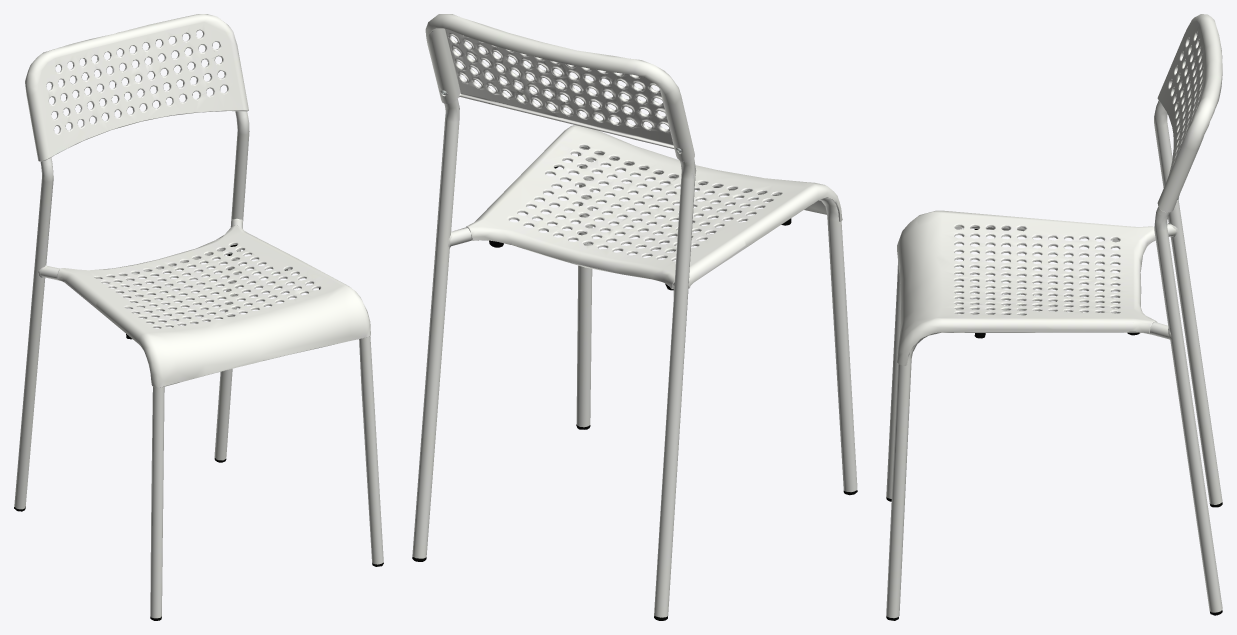
The model's file is sandsberg-silla-blanco.glb.
3 views of the same model, side by side, from view 1: azimuth 30°, elevation 25°; view 2: azimuth 150°, elevation 25°; view 3: azimuth 270°, elevation 25° (orthographic). The views are drawn at different scales.
Parts seen in each view (by area): view 1: ASY_ART_10605424_S01_NV01; view 2: ASY_ART_10605424_S01_NV01; view 3: ASY_ART_10605424_S01_NV01.
Boxes of the visible parts, x1,y1,x2,y2 form: ASY_ART_10605424_S01_NV01: [14, 14, 383, 620]; ASY_ART_10605424_S01_NV01: [412, 14, 857, 620]; ASY_ART_10605424_S01_NV01: [886, 14, 1222, 620].
Bounding box in the file's own units: 0.4158 × 0.7802 × 0.4738.
Materials: 1 (1 with a texture image).
